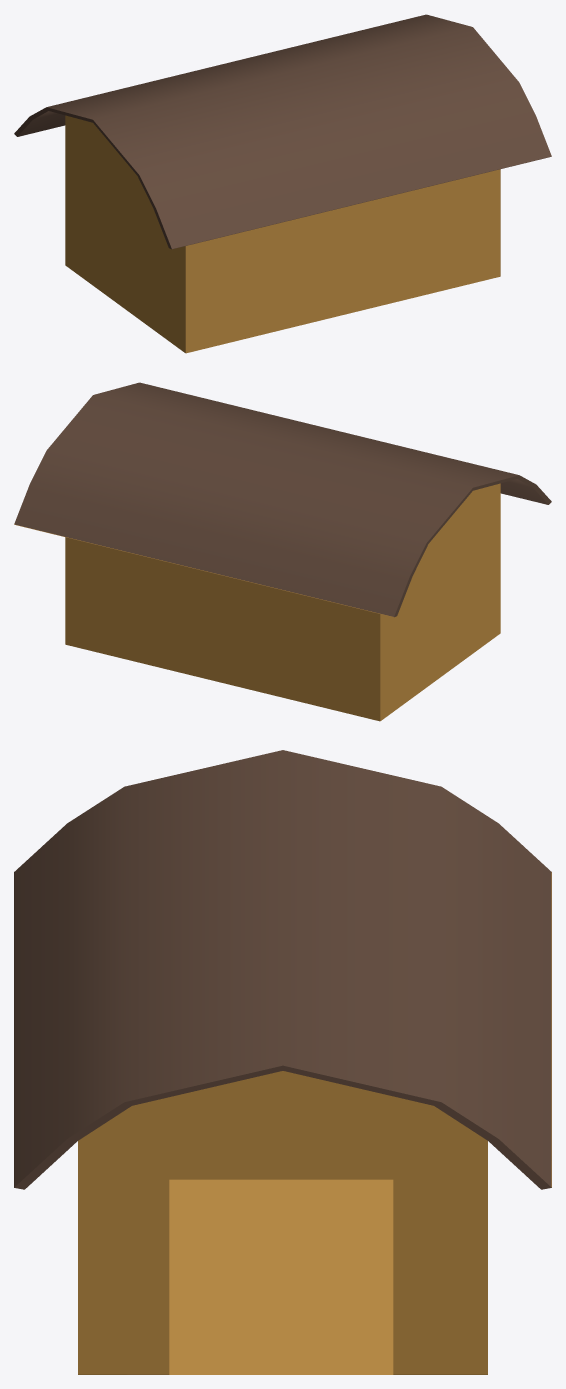
The model's file is pasture.glb.
3 views of the same model, one above another, from view 1: azimuth 30°, elevation 25°; view 2: azimuth 150°, elevation 25°; view 3: azimuth 270°, elevation 25° (orthographic). The views are drawn at different scales.
Visible parts, largest first — view 1: Plane; view 2: Plane; view 3: Plane.
Part boxes in pixels (x1,y1,x2,y2): Plane: (14, 14, 551, 353); Plane: (14, 382, 551, 721); Plane: (14, 750, 551, 1374).
Size of the model in its own units: 2.41 by 1.2 by 1.74.
2 materials, 2 textured.
